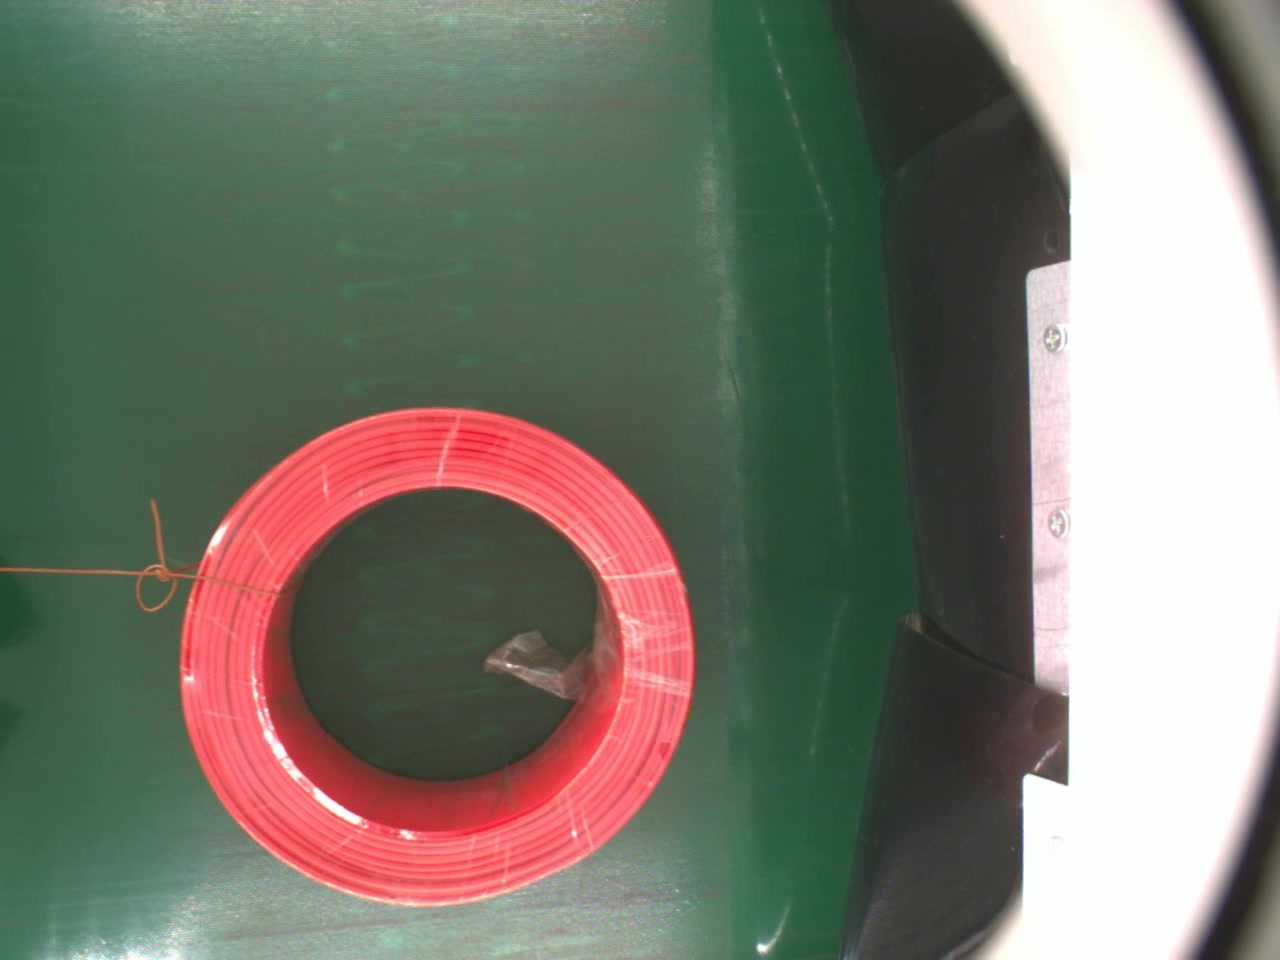red: (166, 395, 713, 905)
